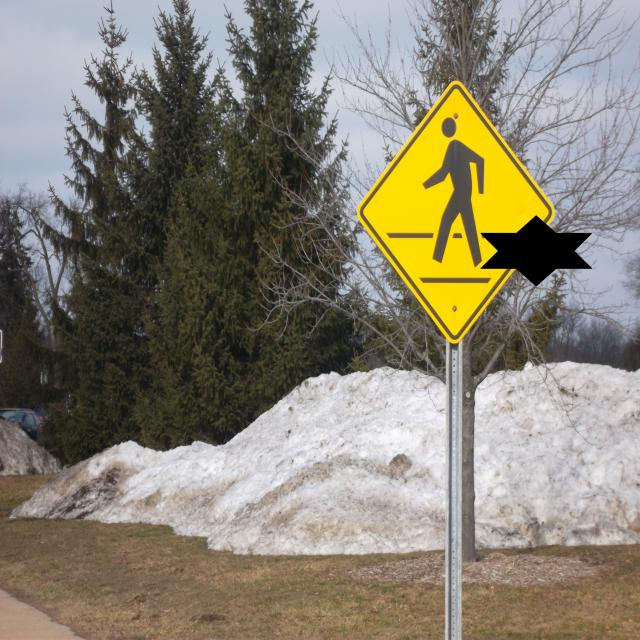warning: (356, 70, 556, 348)
